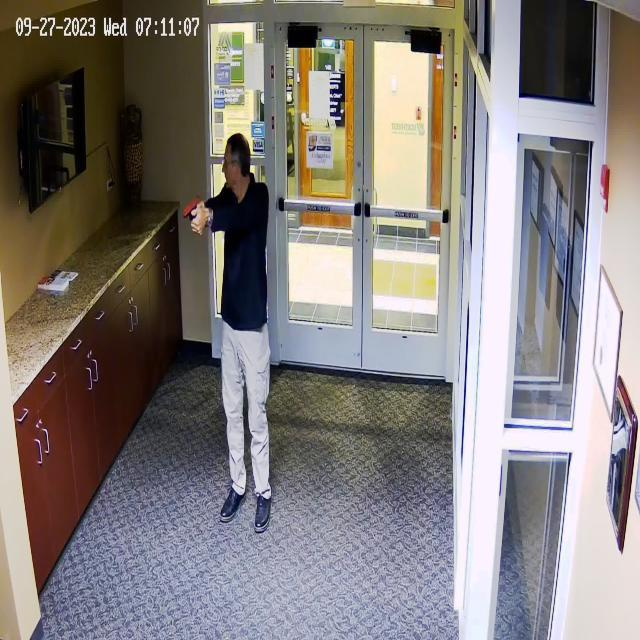Gun: (178, 191, 212, 237)
